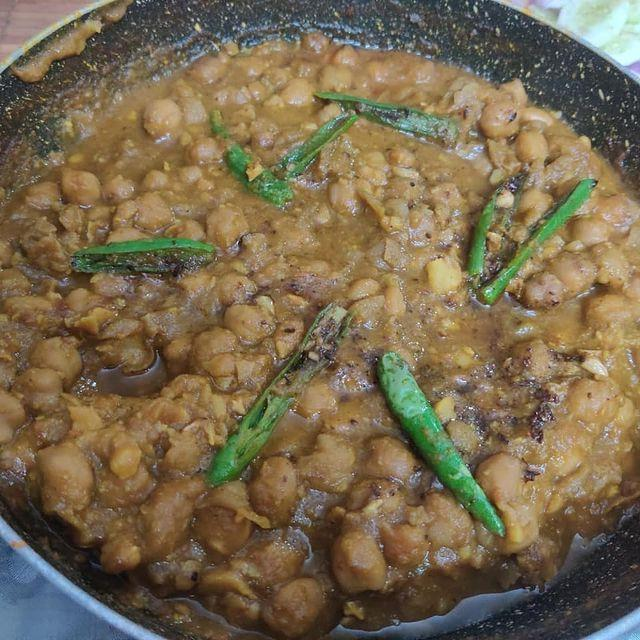Chole: (0, 246, 296, 570)
